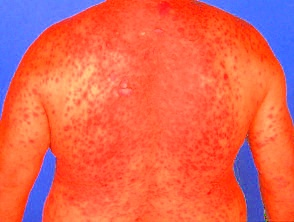SJS-TEN: (0, 0, 270, 218)
